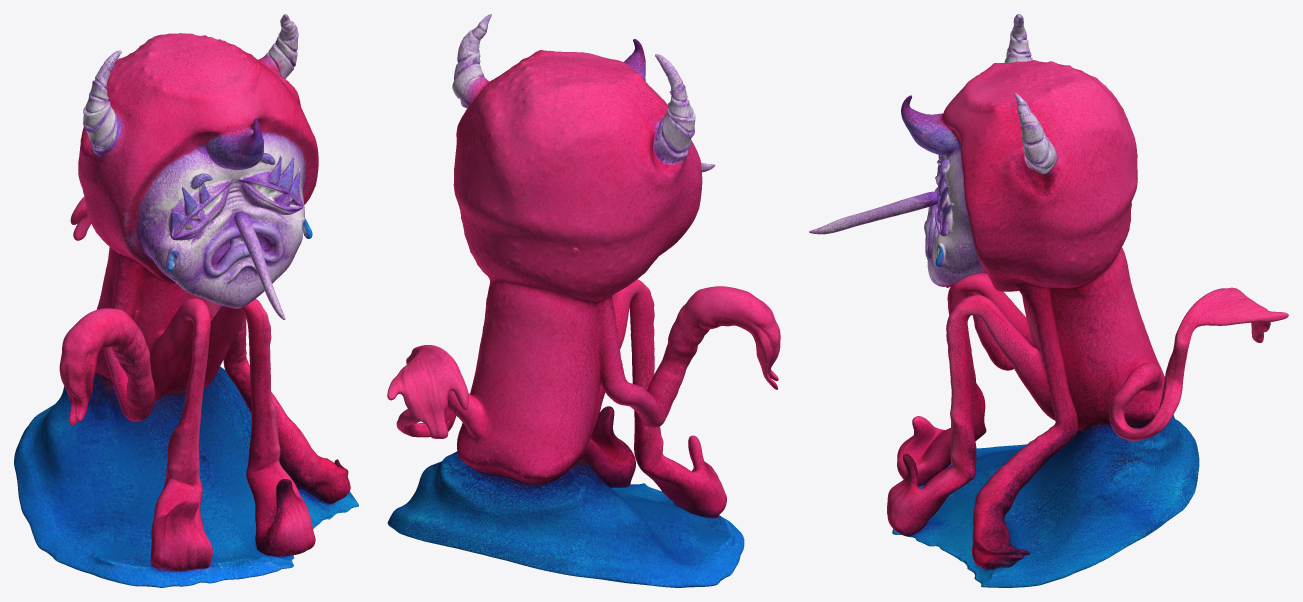
The model's file is Evilweb.glb.
3 renders of one model, left to right at view 1: azimuth 30°, elevation 25°; view 2: azimuth 150°, elevation 25°; view 3: azimuth 270°, elevation 25°, orthographic. The views are drawn at different scales.
Parts seen in each view (by area): view 1: tripo_node_92afe902-3111-406c-b0f5-c4efd5f0a528; view 2: tripo_node_92afe902-3111-406c-b0f5-c4efd5f0a528; view 3: tripo_node_92afe902-3111-406c-b0f5-c4efd5f0a528.
Part boxes in pixels (<box>): tripo_node_92afe902-3111-406c-b0f5-c4efd5f0a528: <box>14,14,358,587</box>; tripo_node_92afe902-3111-406c-b0f5-c4efd5f0a528: <box>387,14,780,587</box>; tripo_node_92afe902-3111-406c-b0f5-c4efd5f0a528: <box>809,14,1288,587</box>.
Size of the model in its own units: 0.6486 by 0.9776 by 0.9027.
1 material, 1 textured.
